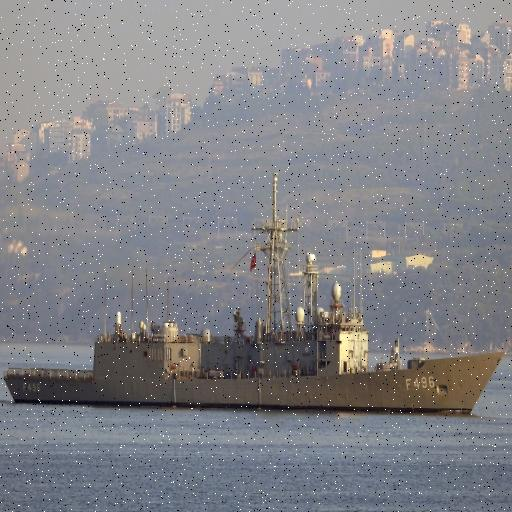Fragata: (5, 161, 508, 419)
